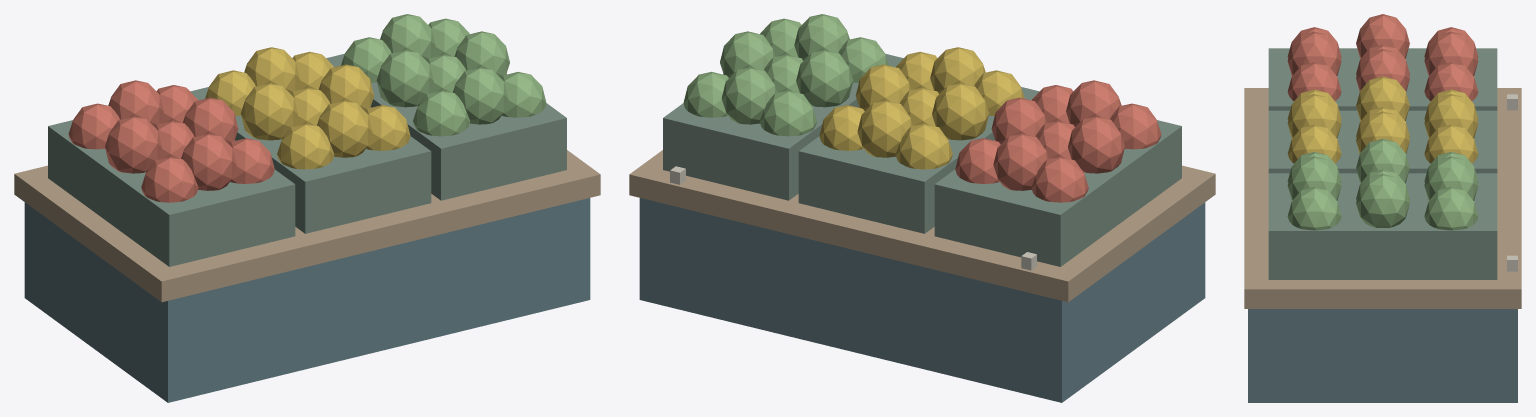
File: produce_island.glb
3 renders of one model, left to right at view 1: azimuth 30°, elevation 25°; view 2: azimuth 150°, elevation 25°; view 3: azimuth 270°, elevation 25°, orthographic. The views are drawn at different scales.
Parts seen in each view (by area): view 1: produce_island; view 2: produce_island; view 3: produce_island.
Boxes of the visible parts, box(x1,y1,x2,y2) form: produce_island: box(14, 14, 600, 402); produce_island: box(629, 14, 1215, 402); produce_island: box(1244, 14, 1521, 402).
Bounding box in the file's own units: 2.65 × 1.29 × 1.54.
